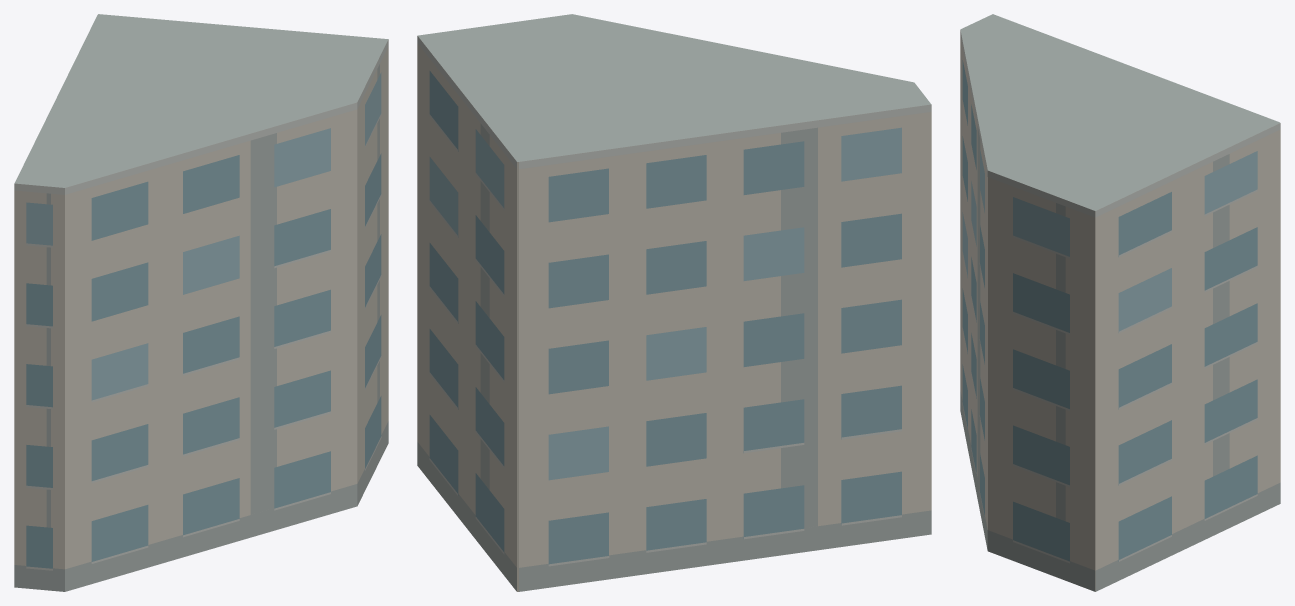
File: survey-upis-32619340.glb
3 renders of one model, left to right at view 1: azimuth 30°, elevation 25°; view 2: azimuth 150°, elevation 25°; view 3: azimuth 270°, elevation 25°, orthographic. The views are drawn at different scales.
Parts seen in each view (by area): view 1: survey-upis-32619340.tmp; view 2: survey-upis-32619340.tmp; view 3: survey-upis-32619340.tmp.
Part boxes in pixels (x1,y1,x2,y2): survey-upis-32619340.tmp: (14, 14, 388, 591); survey-upis-32619340.tmp: (417, 14, 931, 591); survey-upis-32619340.tmp: (960, 14, 1280, 591).
Bounding box in the file's own units: 15.78 × 14.2 × 10.83.
